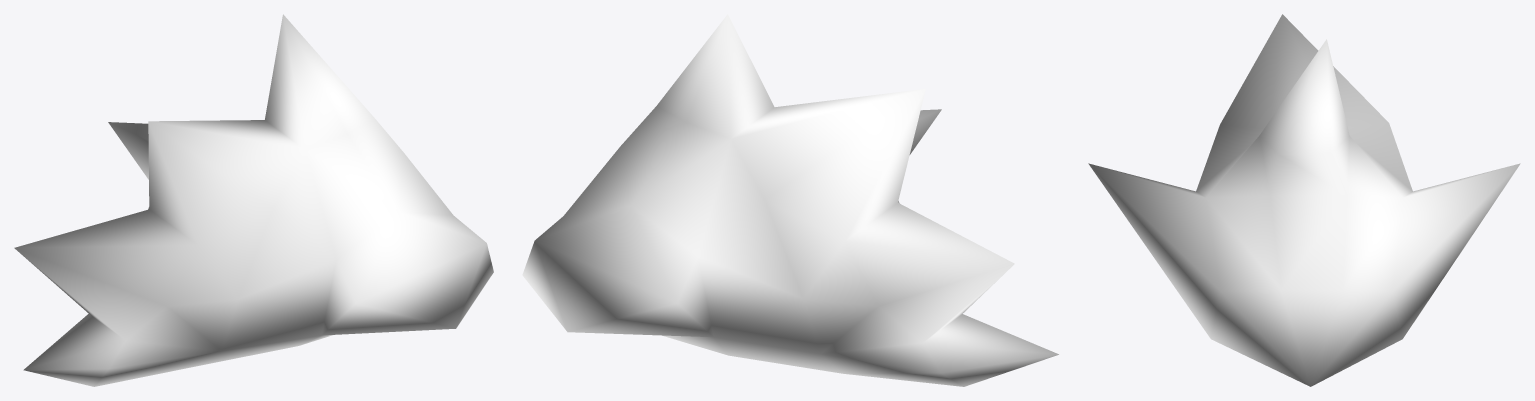
The model's file is running_spike_puff.FBX.
3 views of the same model, side by side, from view 1: azimuth 30°, elevation 25°; view 2: azimuth 150°, elevation 25°; view 3: azimuth 270°, elevation 25° (orthographic). The views are drawn at different scales.
Parts seen in each view (by area): view 1: sprint_smoke_spikes; view 2: sprint_smoke_spikes; view 3: sprint_smoke_spikes.
Boxes of the visible parts, <box> form: sprint_smoke_spikes: <box>14,14,493,386</box>; sprint_smoke_spikes: <box>522,14,1058,386</box>; sprint_smoke_spikes: <box>1088,14,1520,386</box>.
Size of the model in its own units: 180 by 106 by 159.
Materials: 1 (1 with a texture image).
